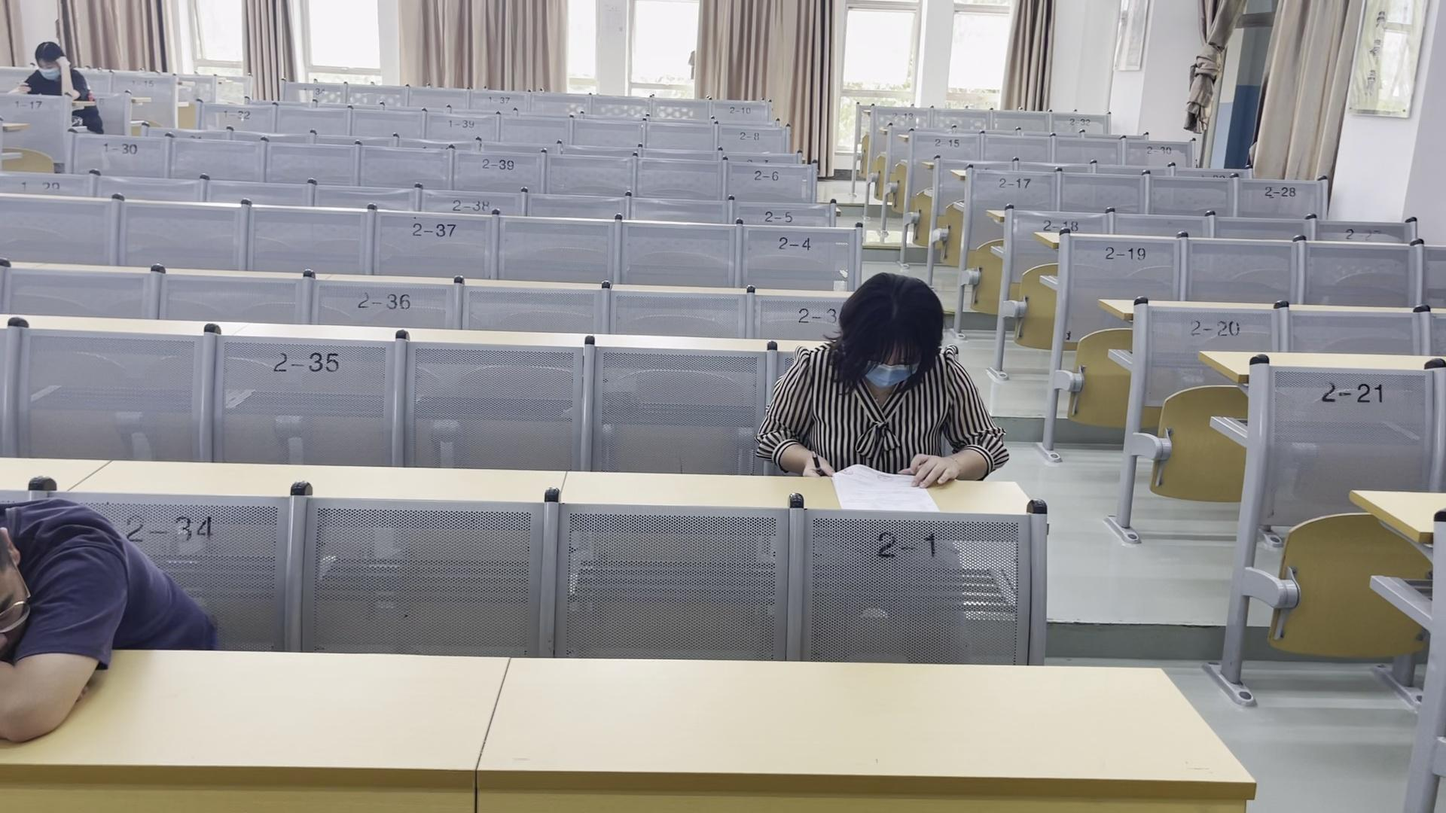study: (757, 276, 999, 474), (26, 43, 79, 92)
